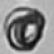correct: (2, 5, 47, 53)
